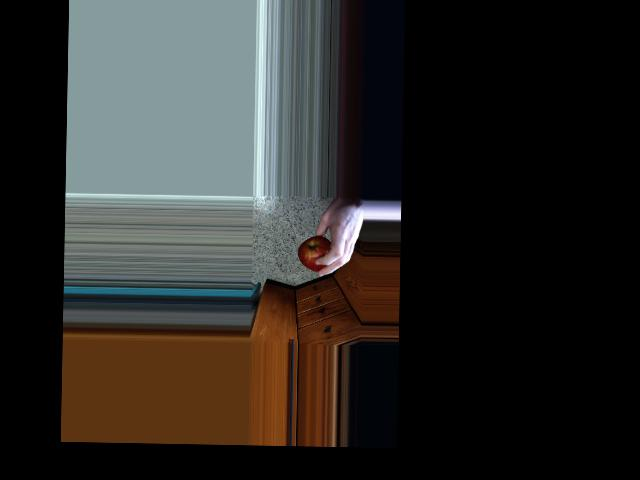apple: (296, 233, 337, 276)
